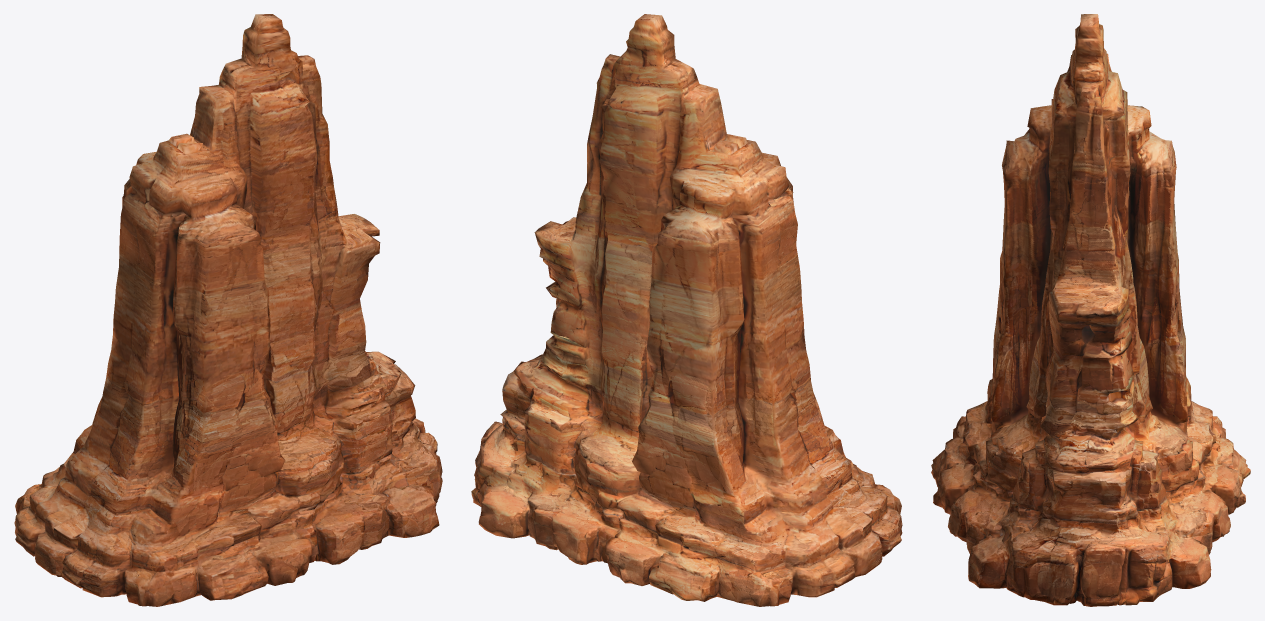
File: sandstone-cliff-buttress.glb
The picture shows the model from 3 angles, left to right: view 1: azimuth 30°, elevation 25°; view 2: azimuth 150°, elevation 25°; view 3: azimuth 270°, elevation 25°; orthographic projection. The views are drawn at different scales.
Visible parts, largest first — view 1: sandstone-cliff-buttress; view 2: sandstone-cliff-buttress; view 3: sandstone-cliff-buttress.
Part boxes in pixels (left/top/right/bottom): sandstone-cliff-buttress: left=14, top=14, right=442, bottom=606; sandstone-cliff-buttress: left=471, top=14, right=902, bottom=606; sandstone-cliff-buttress: left=931, top=14, right=1250, bottom=606.
Size of the model in its own units: 11.28 by 14 by 7.91.
1 material, 1 textured.
